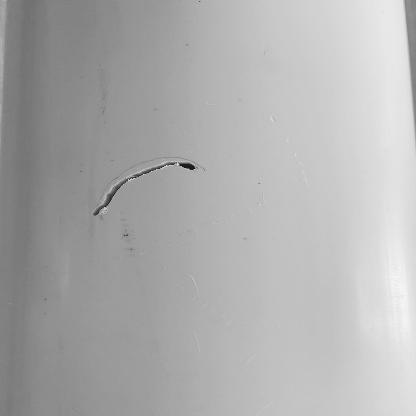fengxi: (91, 159, 198, 218)
